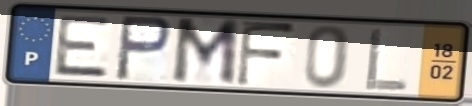0: (301, 23, 354, 92)
E: (51, 14, 115, 80)
F: (232, 18, 299, 89)
L: (362, 25, 411, 93)
M: (168, 16, 243, 89)
P: (112, 13, 175, 84)
